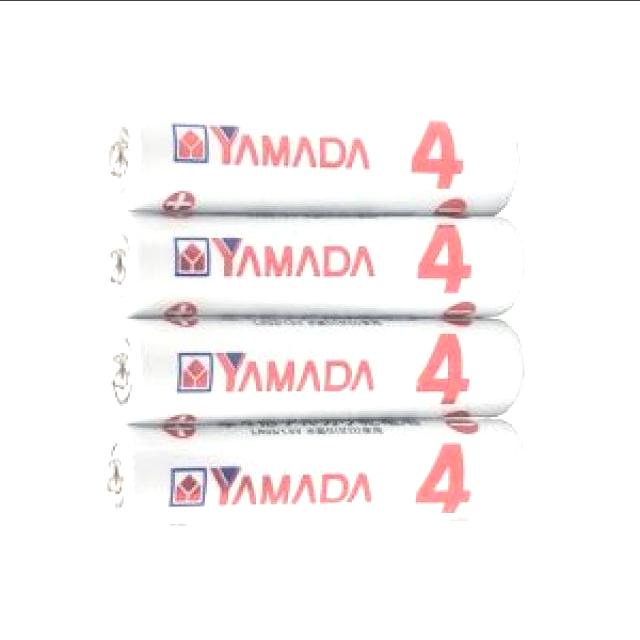AA: (104, 416, 533, 532), (101, 102, 528, 216), (100, 210, 532, 317), (104, 315, 530, 419)
